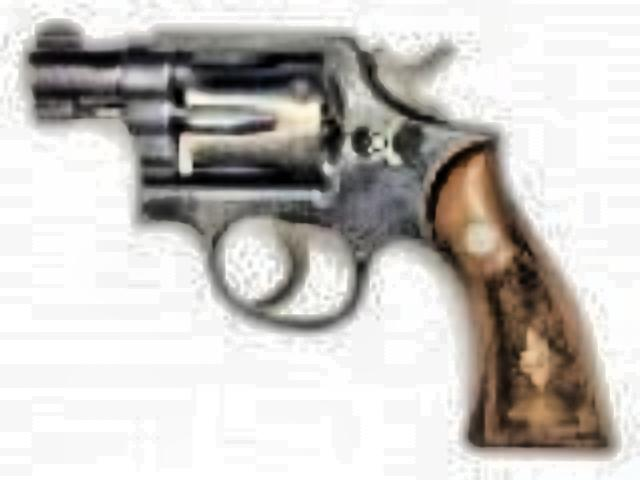pistol: (24, 24, 612, 448)
